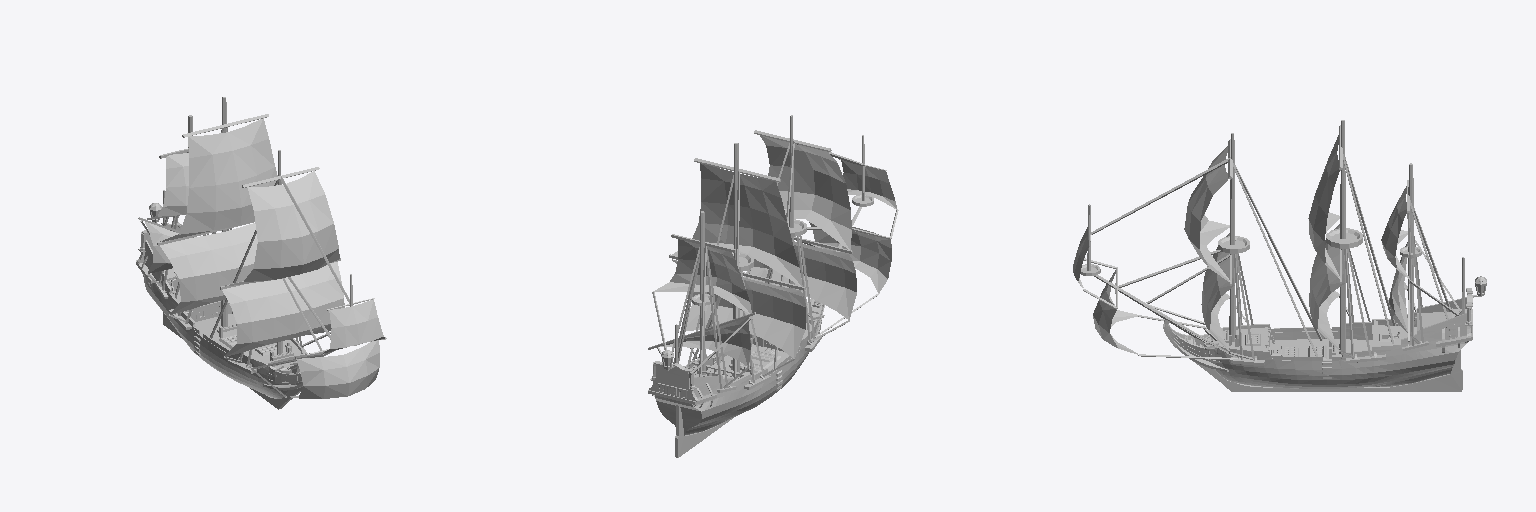
Rendered from ships2.obj.
The picture shows the model from 3 angles: view 1: azimuth 30°, elevation 25°; view 2: azimuth 150°, elevation 25°; view 3: azimuth 270°, elevation 25°; orthographic projection.
Parts seen in each view (by area): view 1: Frigate_Blocking; view 2: Frigate_Blocking; view 3: Frigate_Blocking.
Boxes of the visible parts, box(x1,y1,x2,y2) form: Frigate_Blocking: box(136, 97, 386, 409); Frigate_Blocking: box(648, 115, 898, 457); Frigate_Blocking: box(1073, 120, 1486, 391).
Size of the model in its own units: 4 by 7.66 by 10.61.